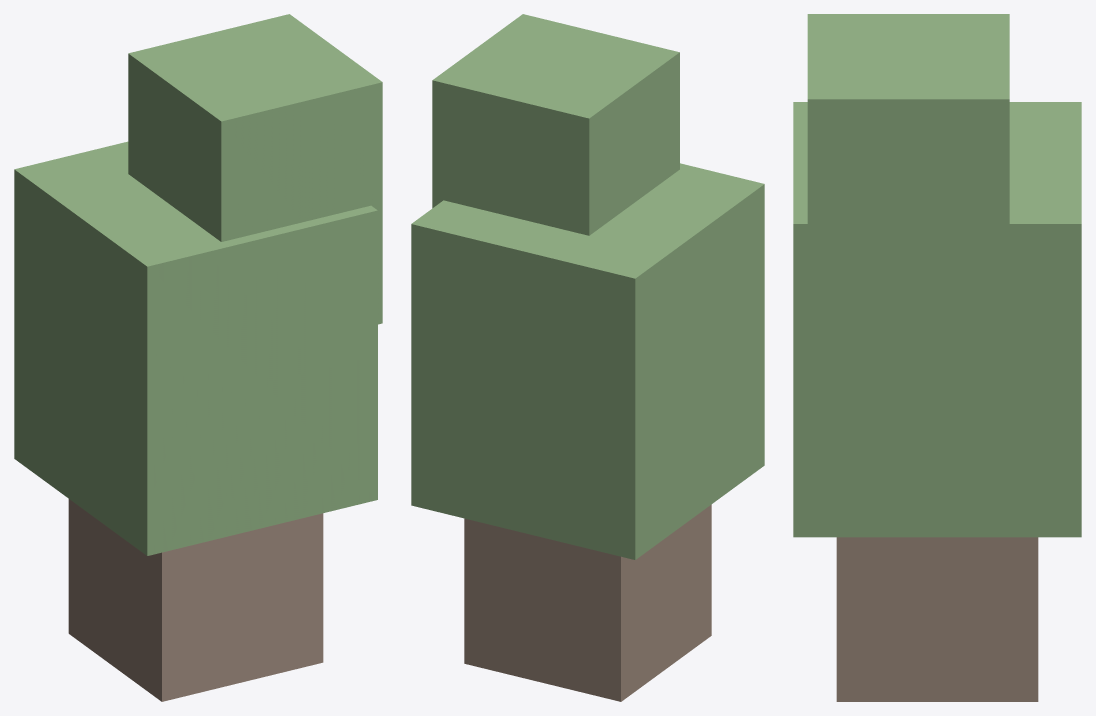
Rendered from planter.glb.
The picture shows the model from 3 angles, left to right: view 1: azimuth 30°, elevation 25°; view 2: azimuth 150°, elevation 25°; view 3: azimuth 270°, elevation 25°; orthographic projection. The views are drawn at different scales.
Bounding box in the file's own units: 525 × 1200 × 500.
